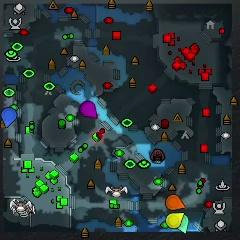p1: (1, 107, 16, 128)
p2: (178, 214, 189, 234)
p3: (80, 101, 97, 118)
p4: (166, 213, 185, 229)
p5: (166, 195, 186, 210)
